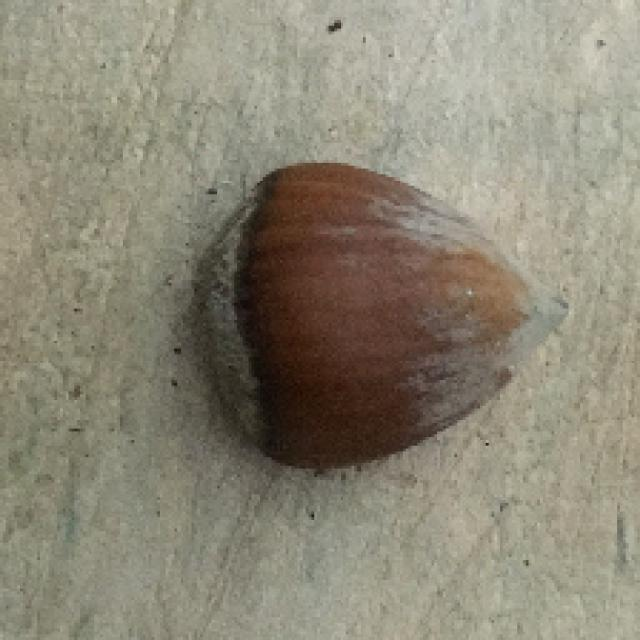qualityHazelnut: (184, 157, 569, 477)
